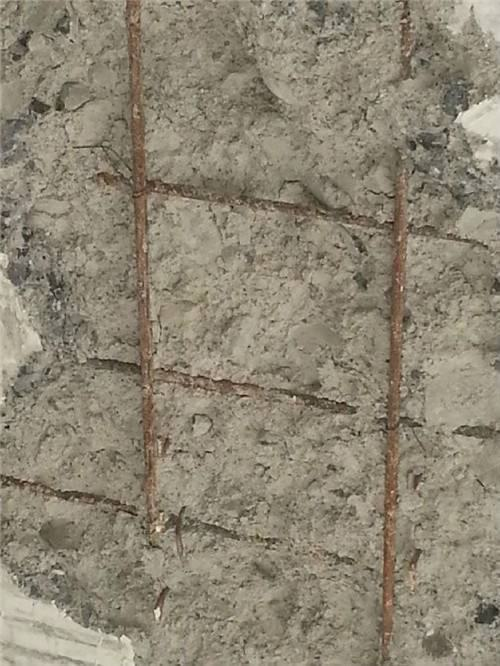Exposed reinforcement: (1, 474, 376, 574), (87, 170, 492, 252), (123, 1, 161, 536), (83, 357, 359, 416), (379, 167, 411, 666), (398, 1, 415, 80), (449, 424, 500, 439), (153, 587, 170, 622)
Spalling: (1, 1, 500, 666)
